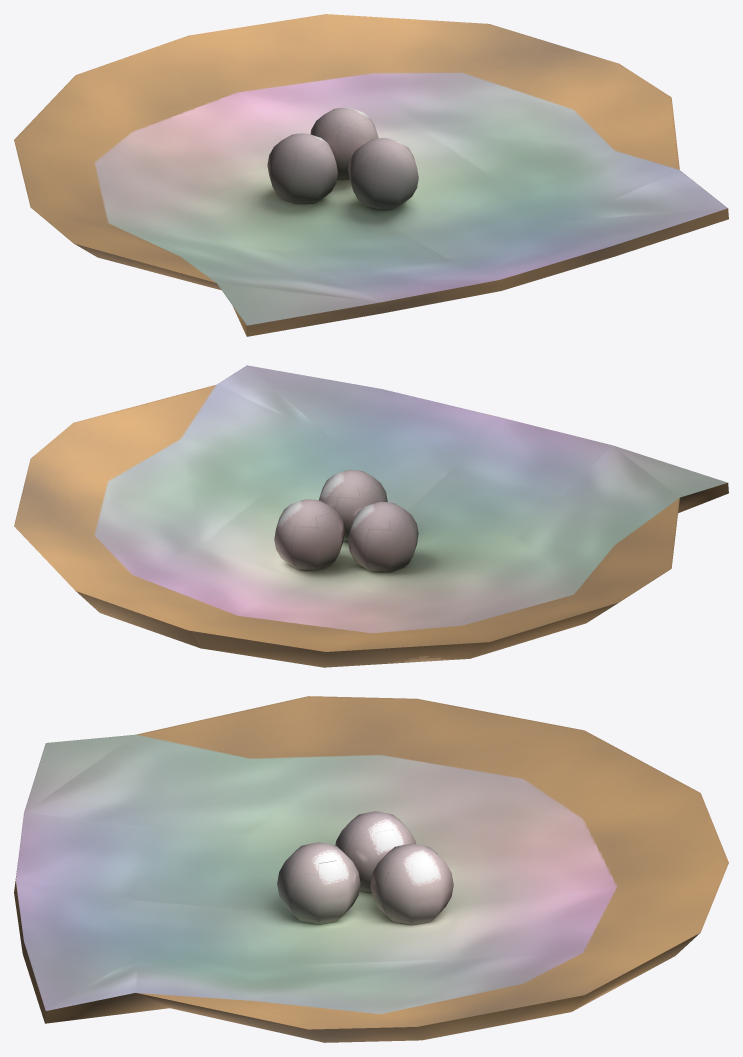
The model's file is item06.fbx.
The picture shows the model from 3 angles, top to bottom: view 1: azimuth 30°, elevation 25°; view 2: azimuth 150°, elevation 25°; view 3: azimuth 270°, elevation 25°; orthographic projection. The views are drawn at different scales.
Parts seen in each view (by area): view 1: item06; view 2: item06; view 3: item06.
Boxes of the visible parts, x1,y1,x2,y2 form: item06: (14, 14, 728, 336); item06: (14, 365, 728, 667); item06: (14, 696, 728, 1042).
Bounding box in the file's own units: 0.5 × 0.0654 × 0.4531.
